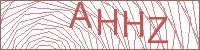A: (69, 1, 93, 29)
H: (96, 8, 119, 36), (123, 10, 145, 38)
Z: (147, 16, 169, 44)
